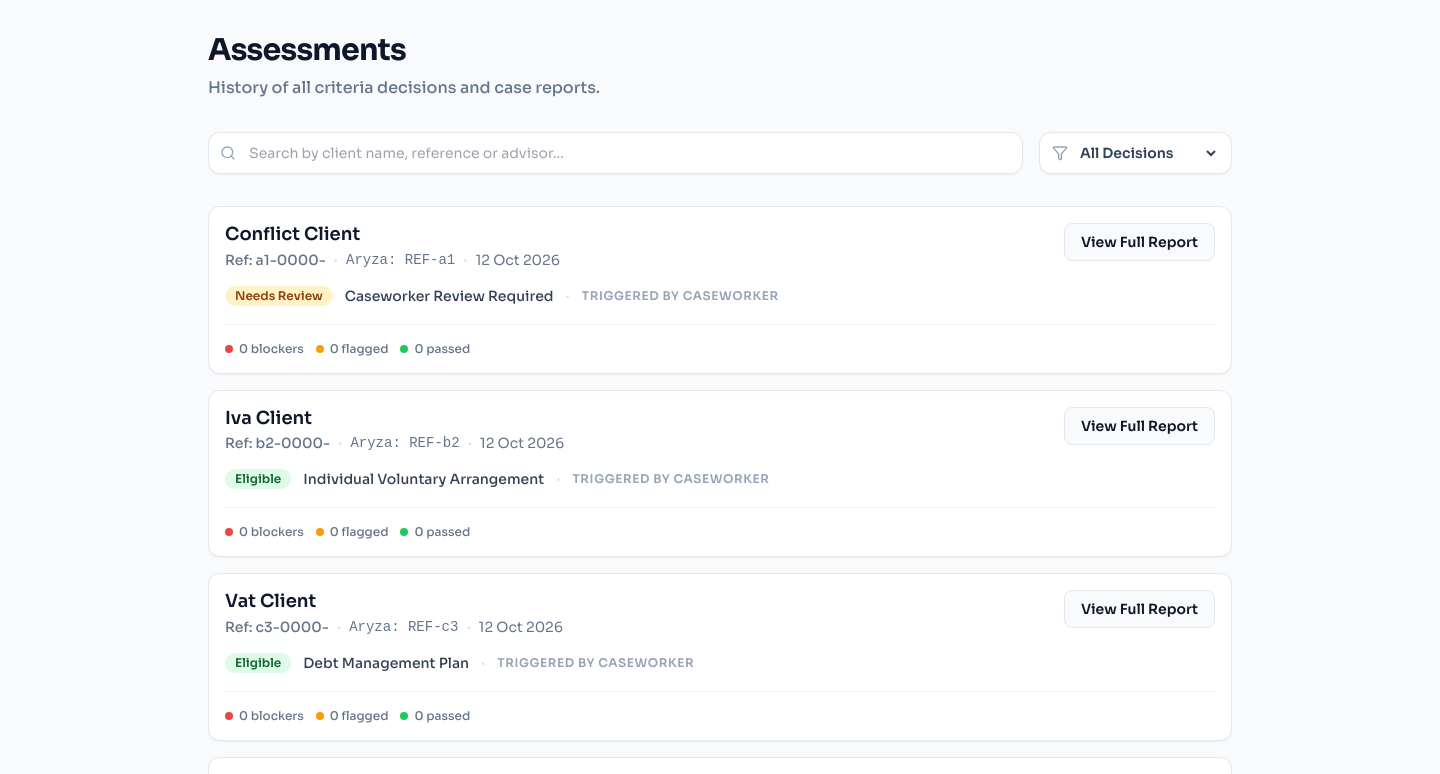
Test: DecisionsPage status › lists the REVIEW_REQUIRED record under Needs Review and not under Eligible
This screenshot has width=1440, height=774.
Expected: the heading "Conflict Client" is shown, x1=225 y1=223 x2=360 y2=245
Select "Needs Review" in the dropdown at (1148, 153), box x1=1076 y1=137 x2=1219 y2=169
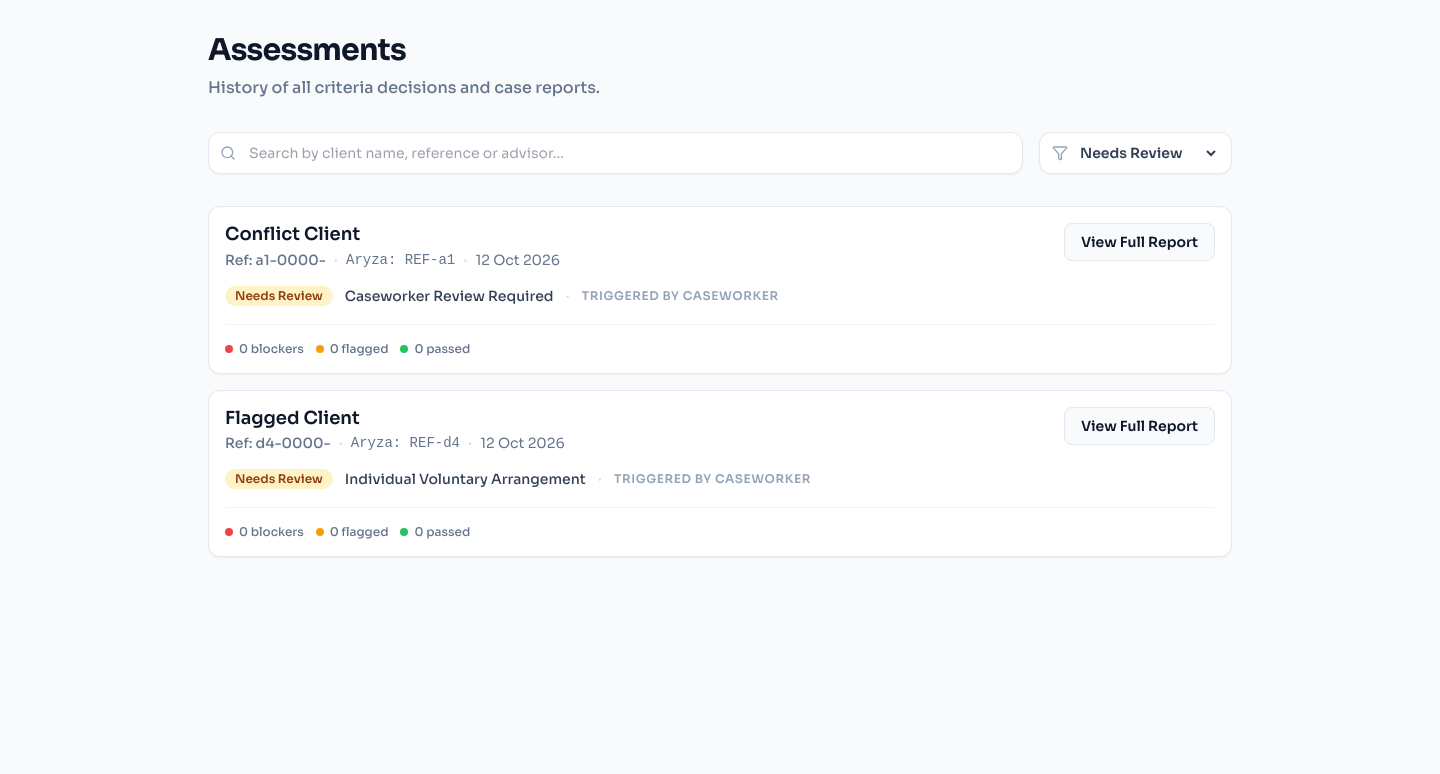
Expected: the heading "Conflict Client" is shown, x1=225 y1=223 x2=360 y2=245
Result: the heading "Iva Client" is gone
Select "Eligible" in the dropdown at (1148, 153), box x1=1076 y1=137 x2=1219 y2=169
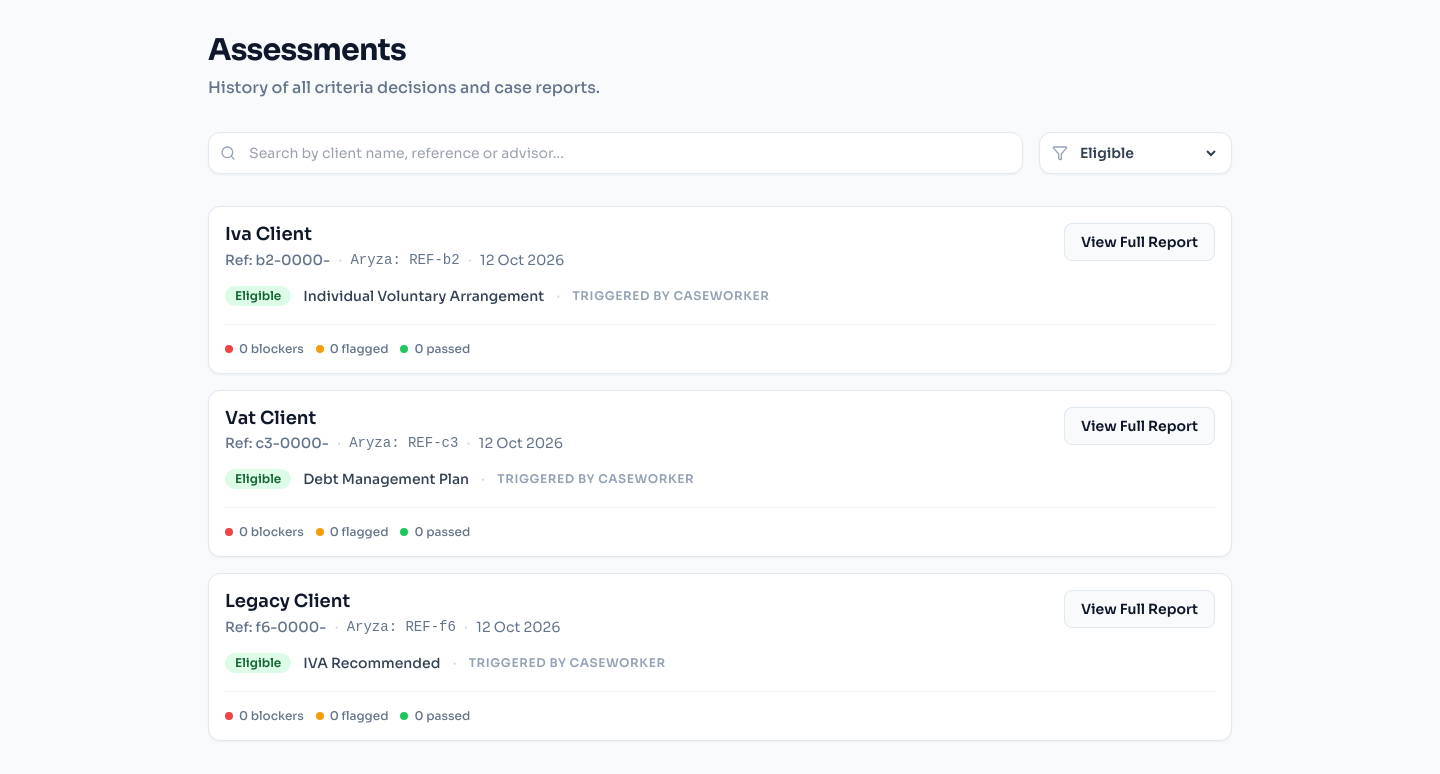
Result: the heading "Conflict Client" is gone
Result: the heading "Iva Client" is shown at x1=225 y1=223 x2=312 y2=245
